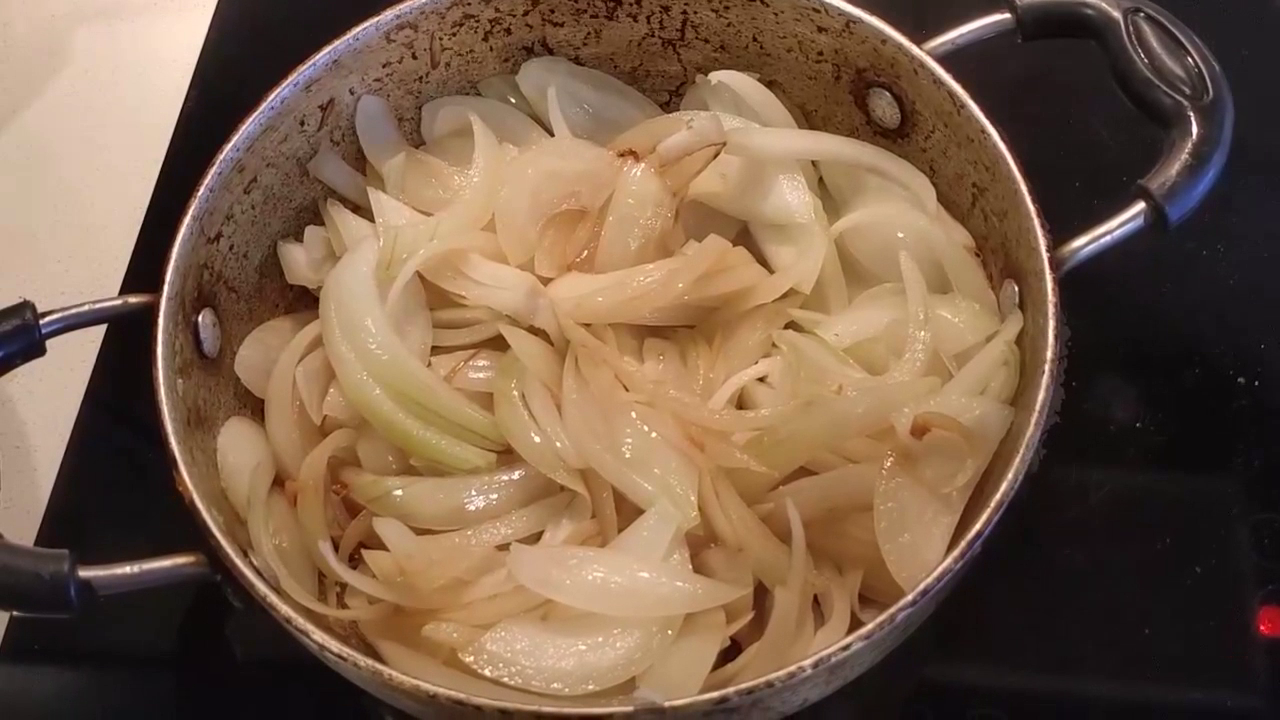Raw: (337, 167, 870, 599)
